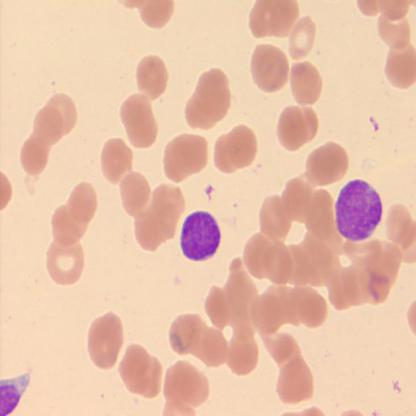Blast: (333, 178, 384, 242), (180, 207, 224, 264)
